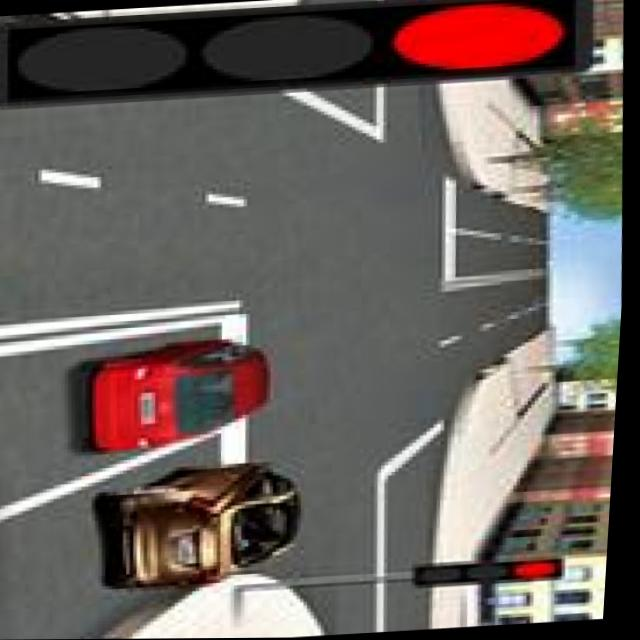red_light: (401, 0, 602, 129)
